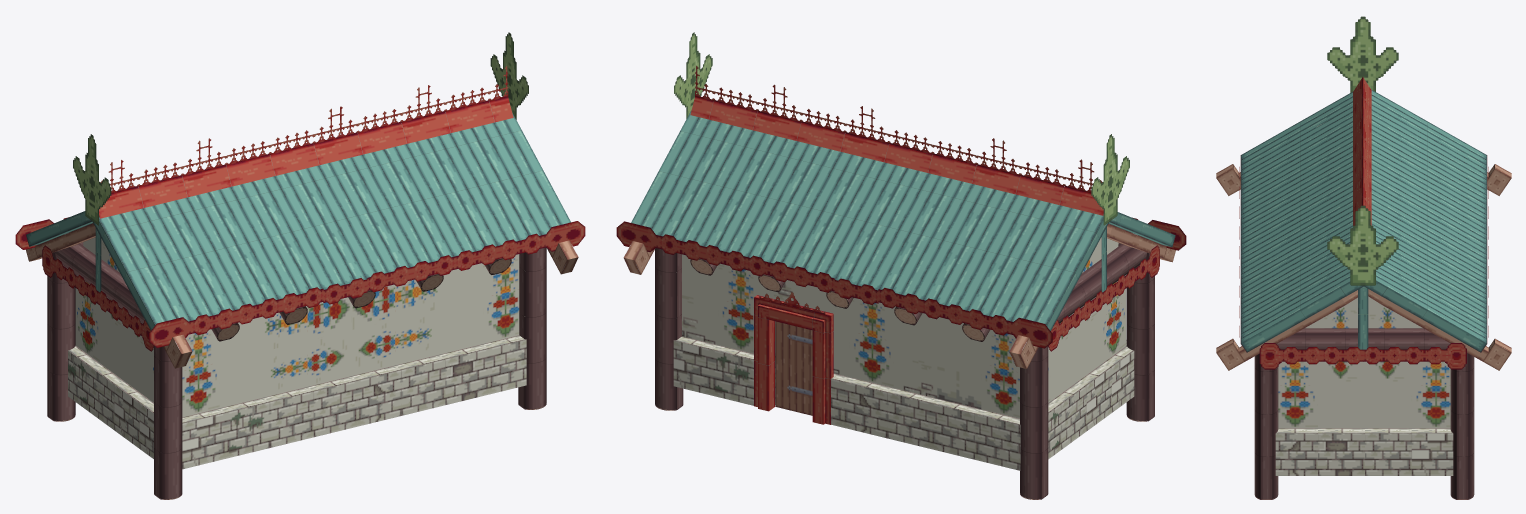
Rendered from stone_house_small.fbx.
The picture shows the model from 3 angles, left to right: view 1: azimuth 30°, elevation 25°; view 2: azimuth 150°, elevation 25°; view 3: azimuth 270°, elevation 25°; orthographic projection. The views are drawn at different scales.
Parts seen in each view (by area): view 1: stone_house_small; view 2: stone_house_small; view 3: stone_house_small.
Part boxes in pixels (x1,y1,x2,y2): stone_house_small: (15, 32, 585, 499); stone_house_small: (616, 32, 1186, 499); stone_house_small: (1216, 16, 1511, 499).
Size of the model in its own units: 1000 by 717 by 629.
